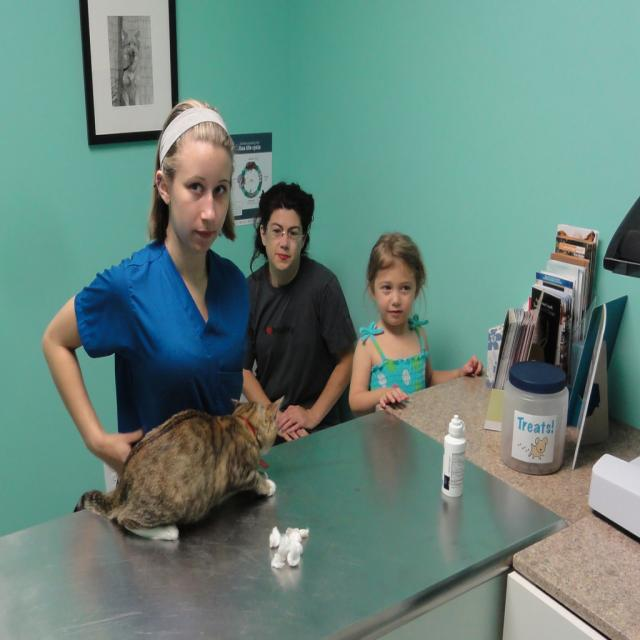Cat: (76, 398, 285, 542)
